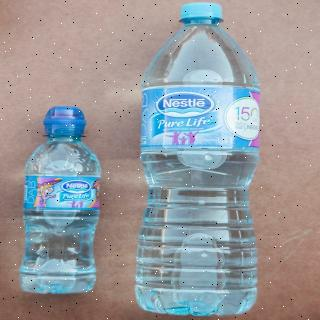Plastic-bottle: (130, 3, 262, 317), (14, 100, 107, 300)
